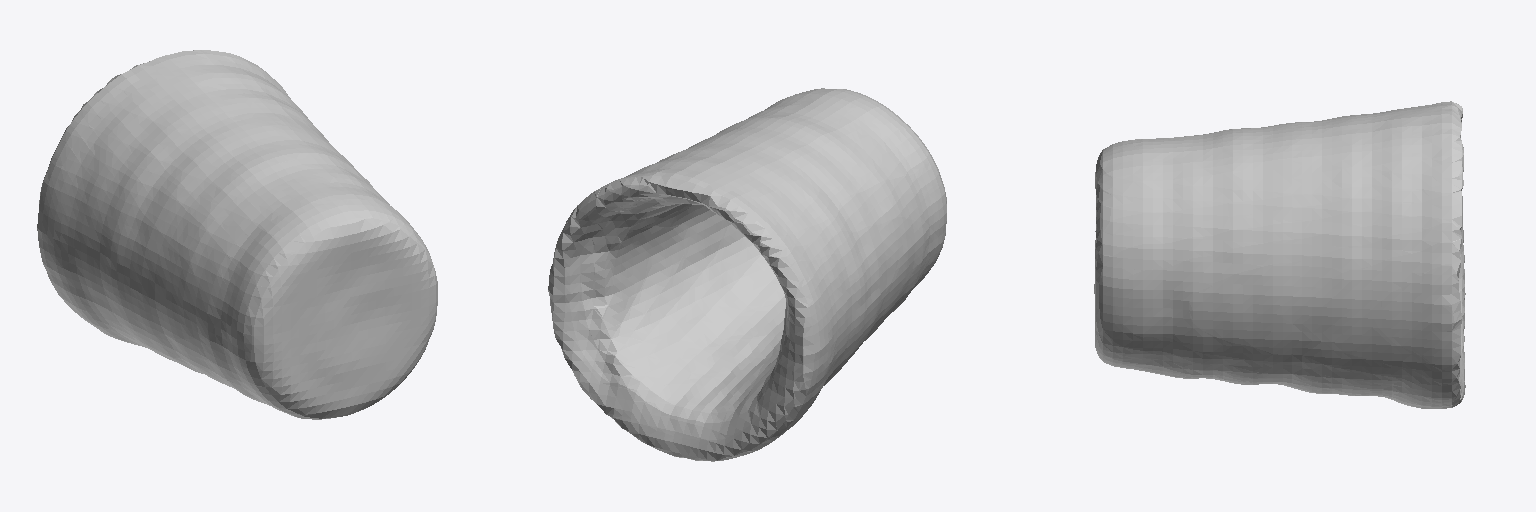
File: bluecup.obj
3 renders of one model, left to right at view 1: azimuth 30°, elevation 25°; view 2: azimuth 150°, elevation 25°; view 3: azimuth 270°, elevation 25°, orthographic.
Size of the model in its own units: 0.0854 by 0.0848 by 0.1027.